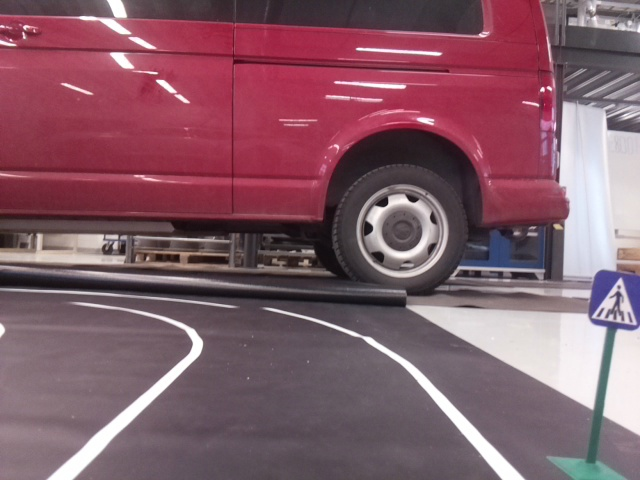Crosswalk: (589, 264, 639, 331)
